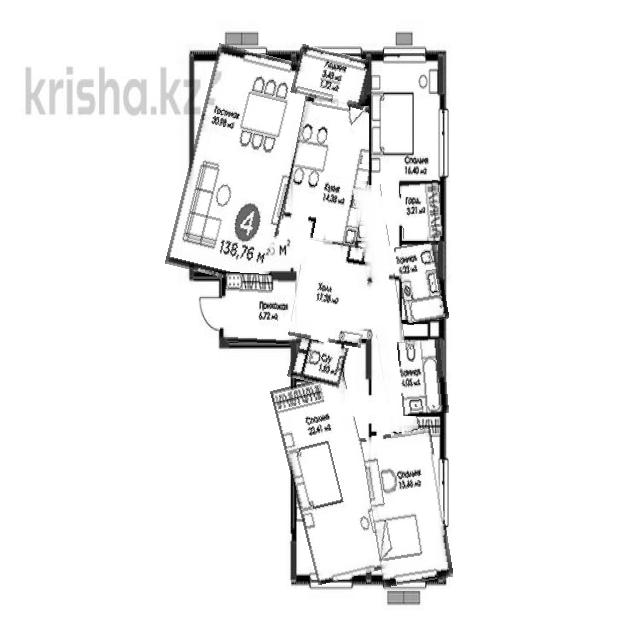balcony: (293, 48, 372, 106)
bathroom: (397, 242, 446, 323), (399, 339, 447, 416), (289, 339, 347, 387)
hallway: (363, 184, 409, 433), (292, 240, 374, 346), (221, 273, 295, 344)
kitchen: (286, 98, 376, 245)
living_room: (178, 48, 308, 284), (282, 376, 381, 582), (365, 430, 448, 585), (369, 55, 444, 183)
other: (400, 181, 442, 239)
